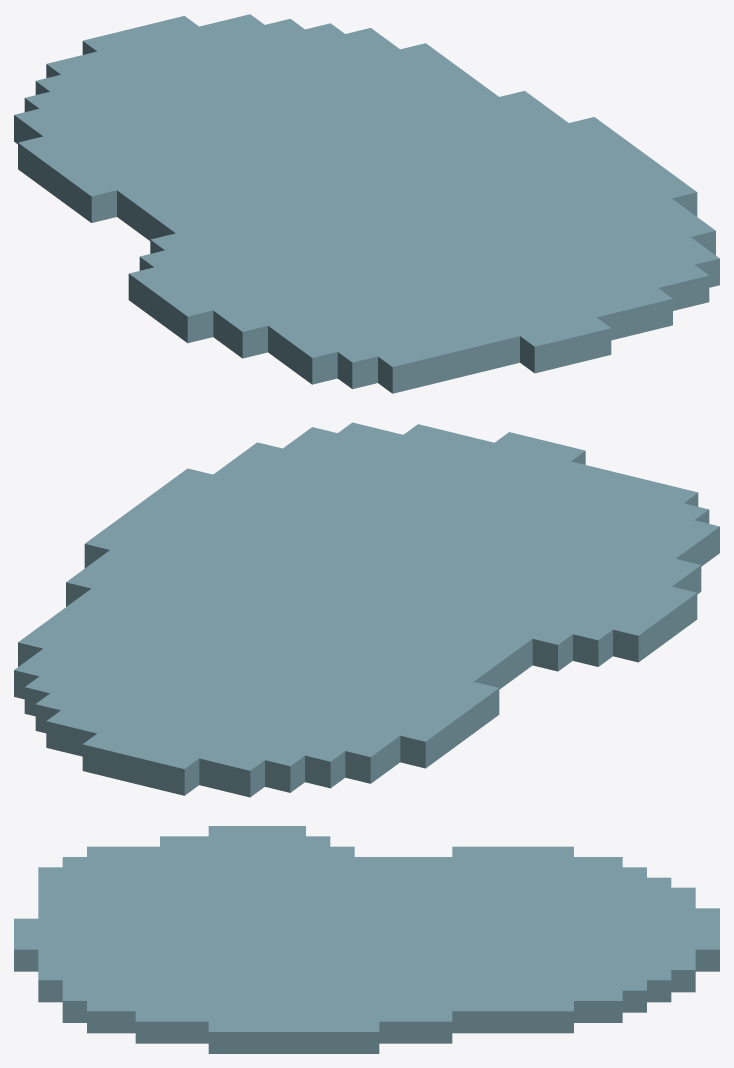
Rendered from pond.fbx.
3 renders of one model, top to bottom at view 1: azimuth 30°, elevation 25°; view 2: azimuth 150°, elevation 25°; view 3: azimuth 270°, elevation 25°, orthographic. The views are drawn at different scales.
Parts seen in each view (by area): view 1: voxel_0_pond:Mesh; view 2: voxel_0_pond:Mesh; view 3: voxel_0_pond:Mesh.
Part boxes in pixels (x1,y1,x2,y2): voxel_0_pond:Mesh: (14,14,719,393); voxel_0_pond:Mesh: (14,422,719,797); voxel_0_pond:Mesh: (14,826,719,1053).
Bounding box in the file's own units: 2 × 0.1 × 2.9.
